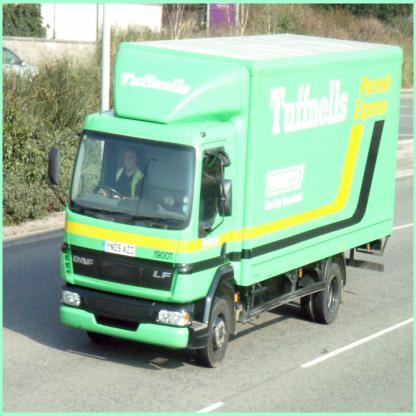Truck: (65, 22, 406, 370)
